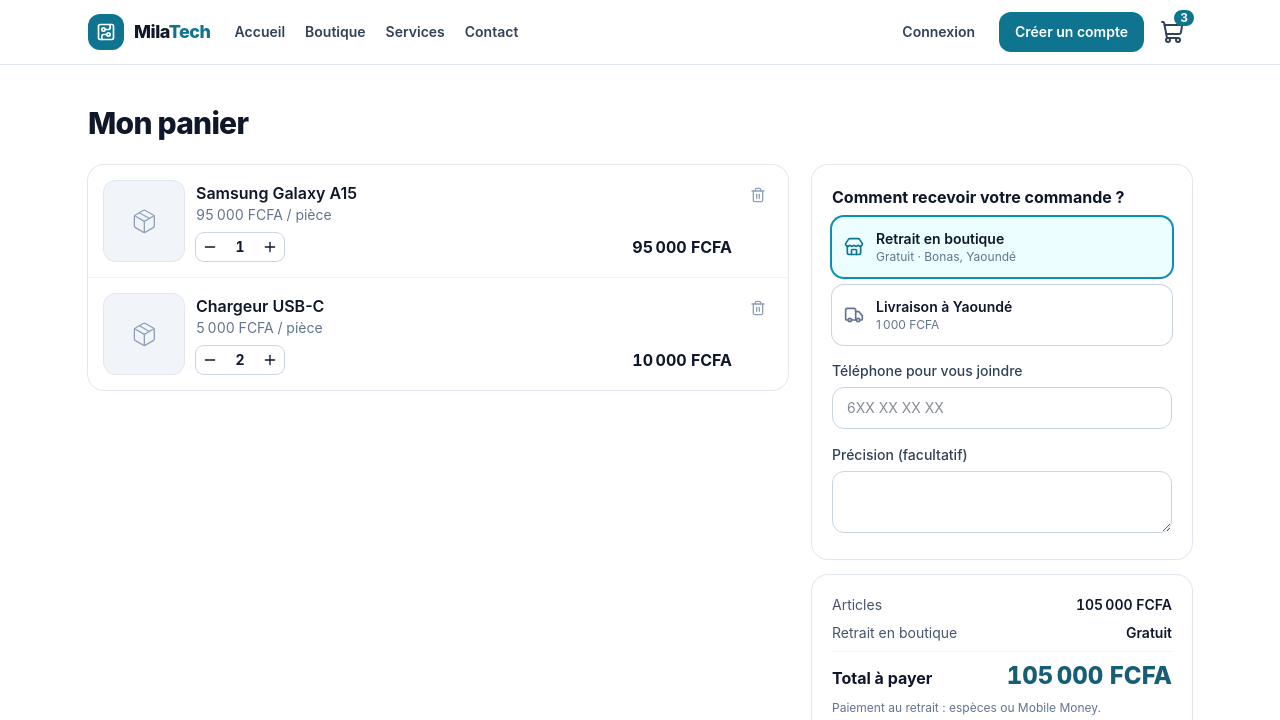
Test case: Boutique en ligne › ajoute les frais de livraison et demande au visiteur de se connecter pour commander
Expected: the text "Total à payer" is shown, x1=832 y1=666 x2=932 y2=690
Expected: the element showing "Total à payer 105 000 FCFA" is shown, x1=832 y1=651 x2=1172 y2=692
Click the text "Livraison à Yaoundé" at (944, 306), box x1=876 y1=298 x2=1012 y2=315
(page scrolled)
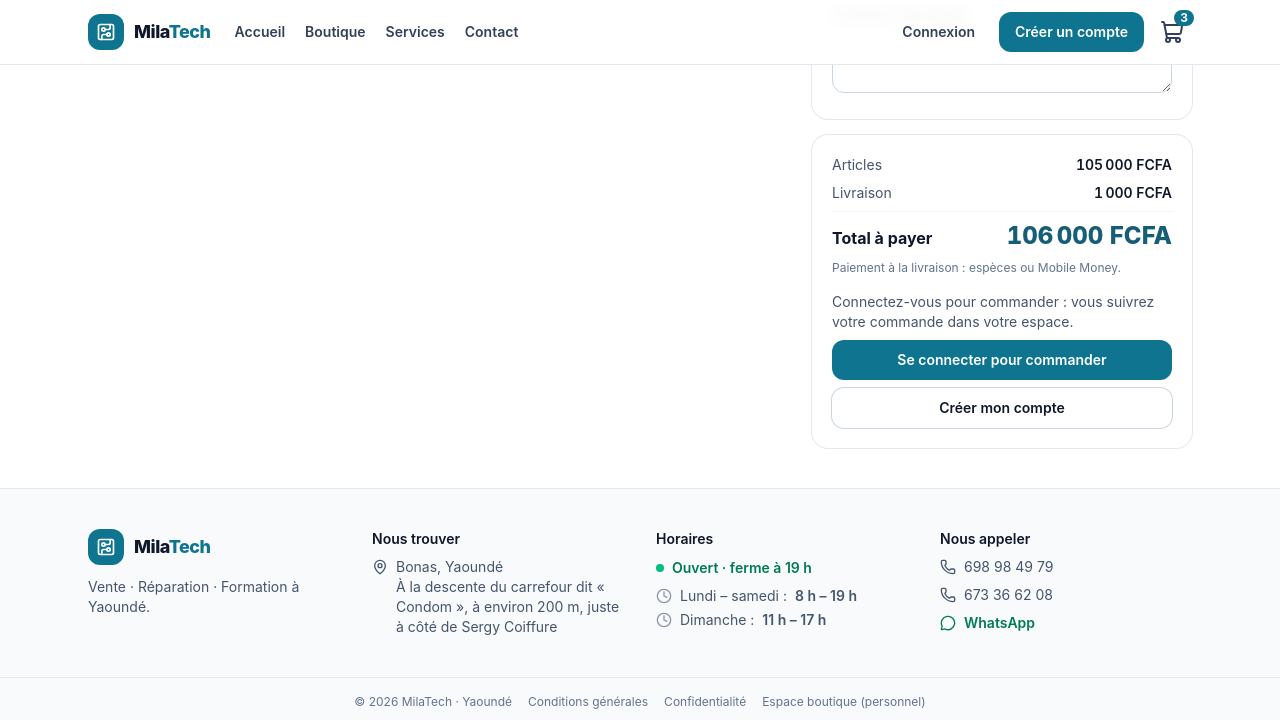
Expected: the link "Se connecter pour commander" is shown, x1=832 y1=340 x2=1172 y2=380
Expected: the element showing "Total à payer 106 000 FCFA" is shown, x1=832 y1=211 x2=1172 y2=252
